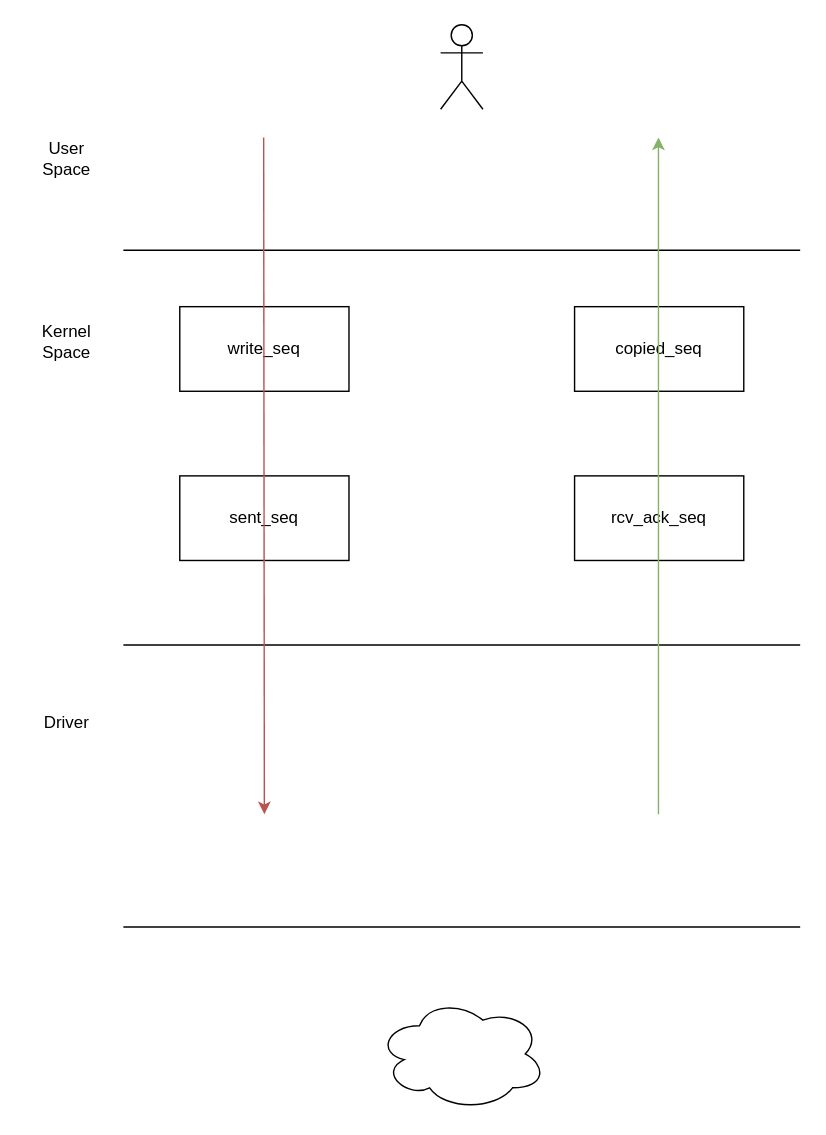
Image size: 826x1135. Some labels were removed from this diagram. The centre of each missing label's shape, as x and y in pixels:
Actor: point 461,66
Network: point 461,1053
